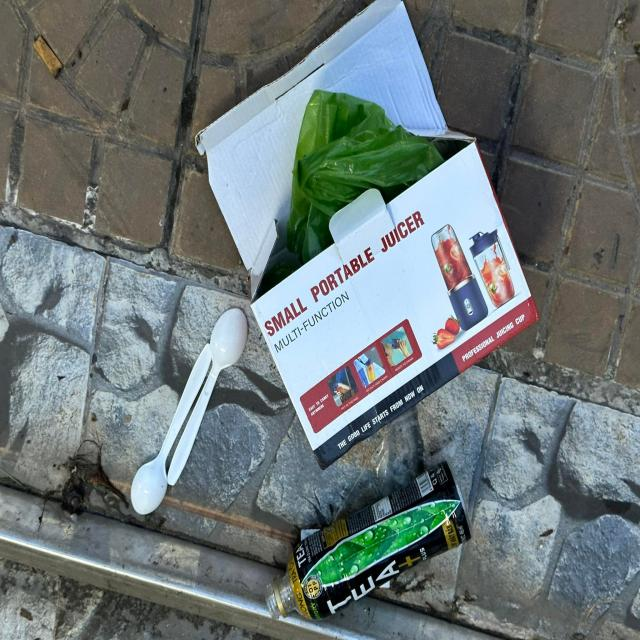bag: (286, 90, 445, 264)
bottle: (264, 459, 474, 621)
cardboard box: (195, 0, 539, 471)
plastic utensil: (167, 308, 248, 486), (130, 342, 212, 516)
